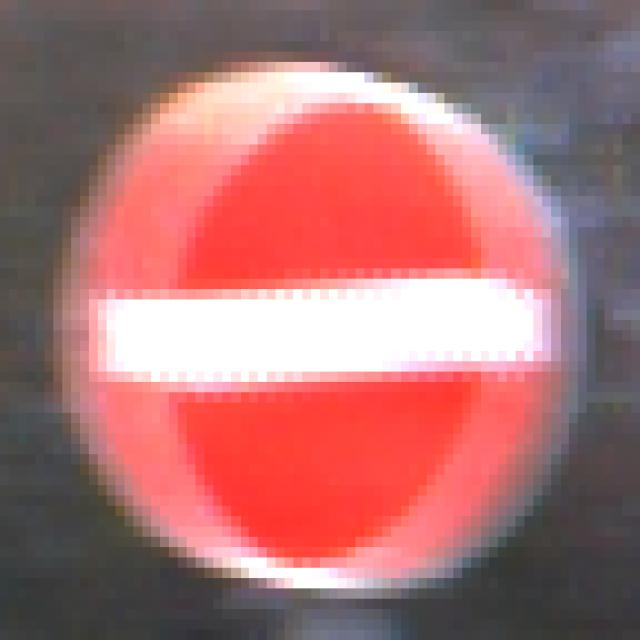No Entry: (54, 53, 588, 590)
